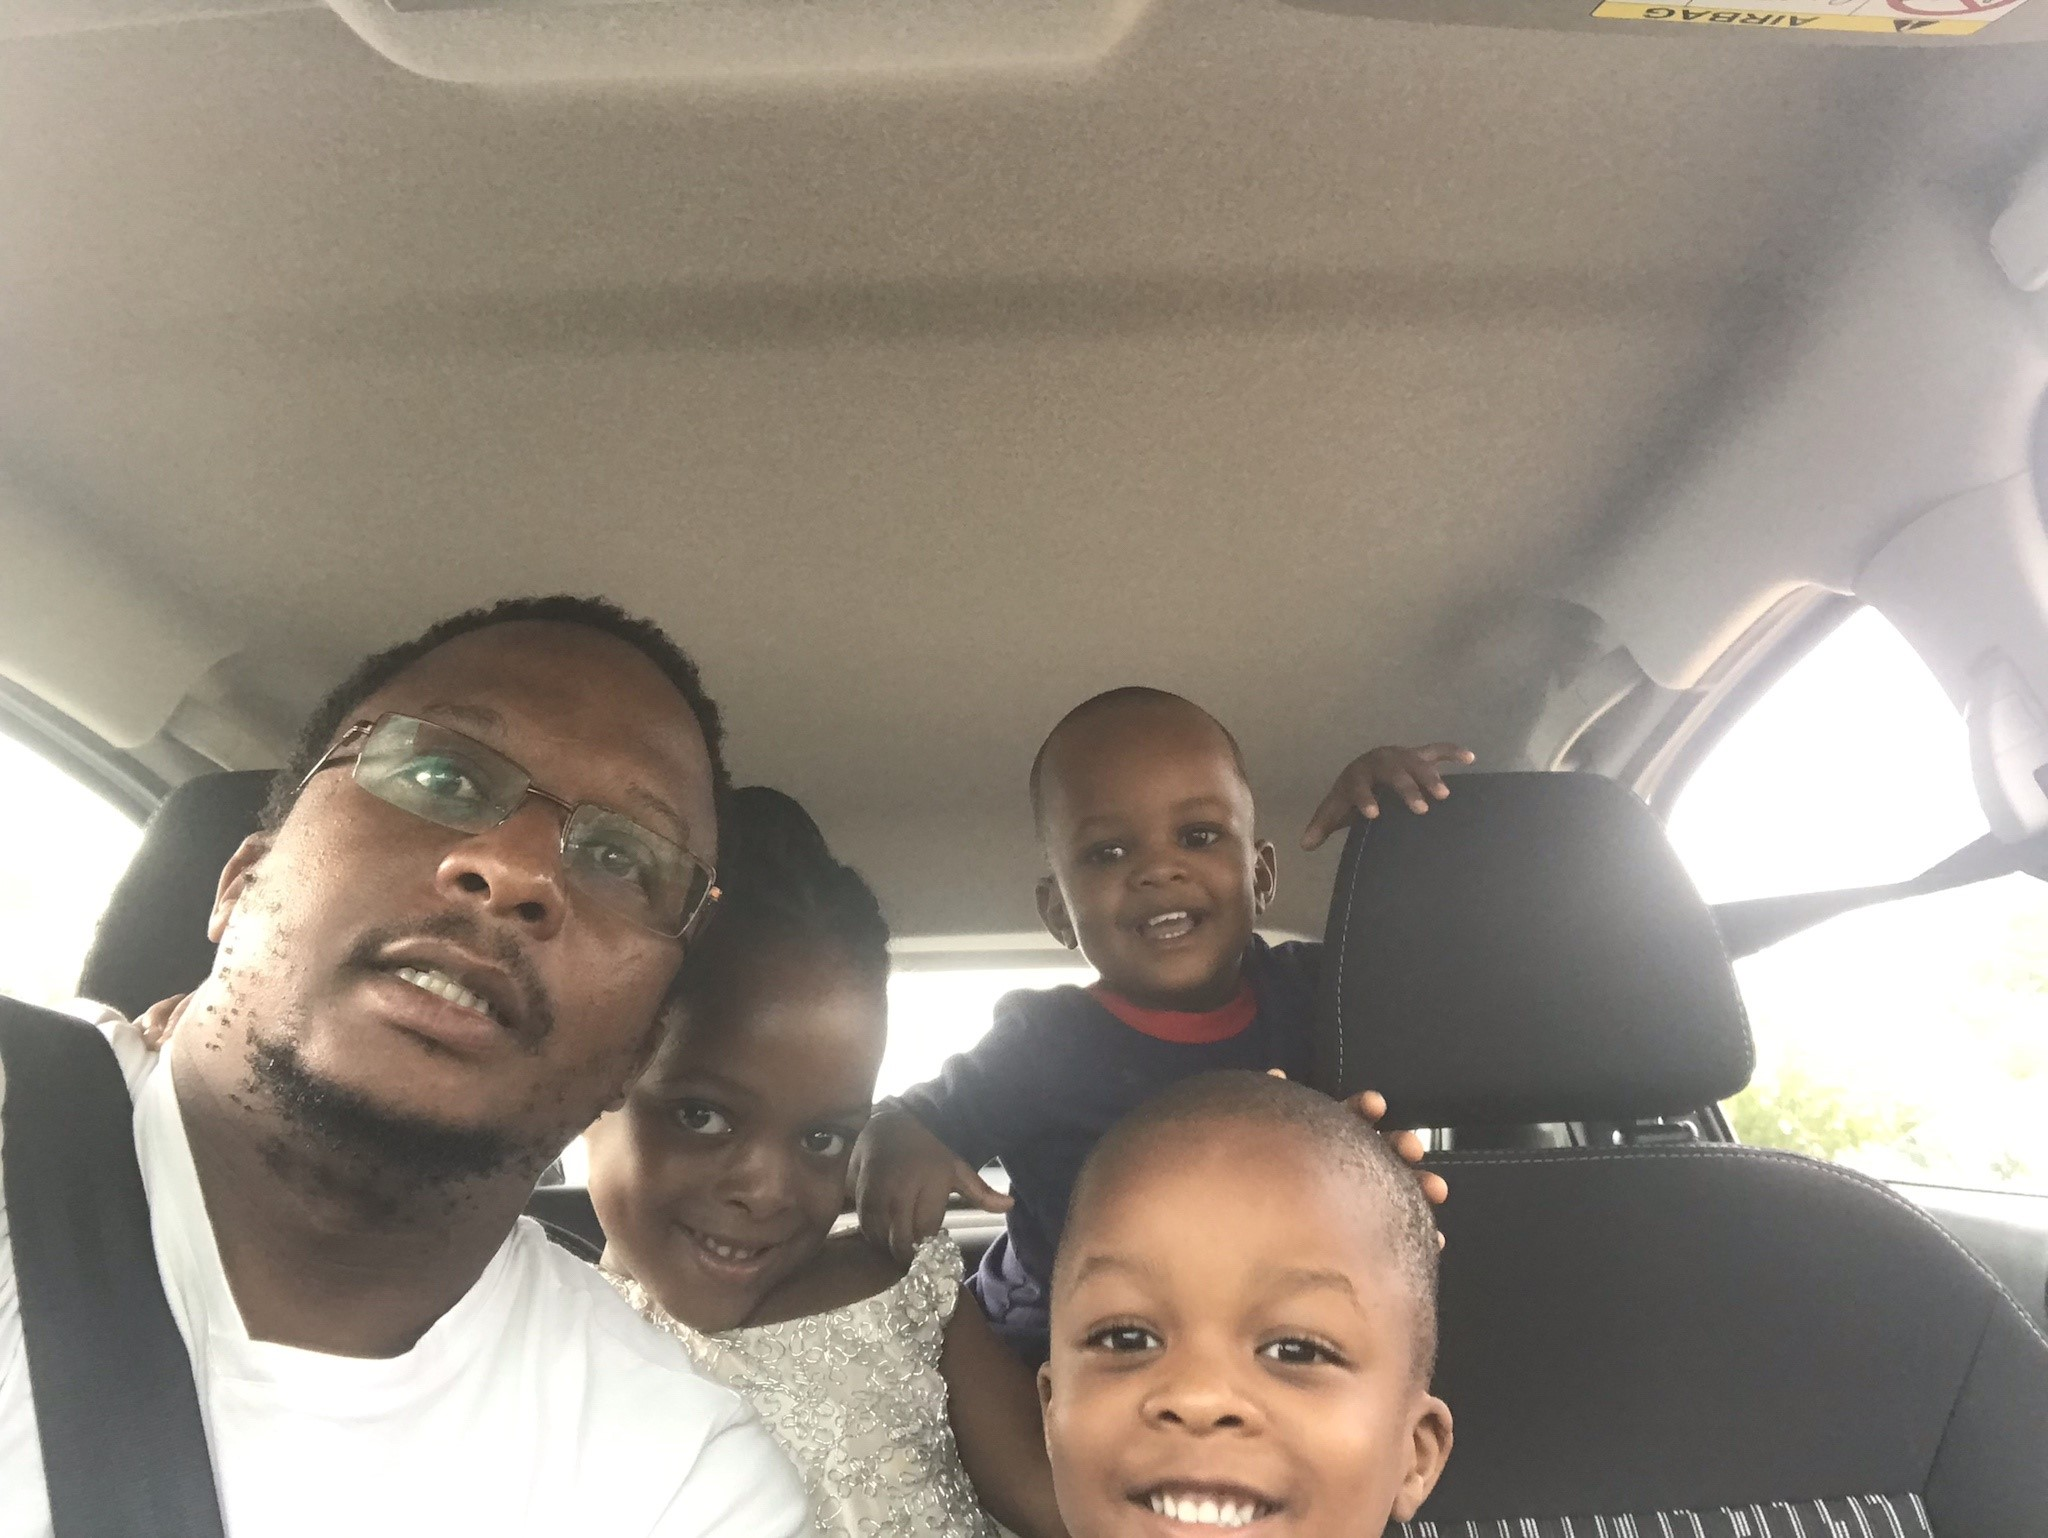face_no_mask: (220, 599, 708, 1217), (1039, 1071, 1450, 1533), (584, 839, 885, 1328), (1032, 687, 1275, 988)
